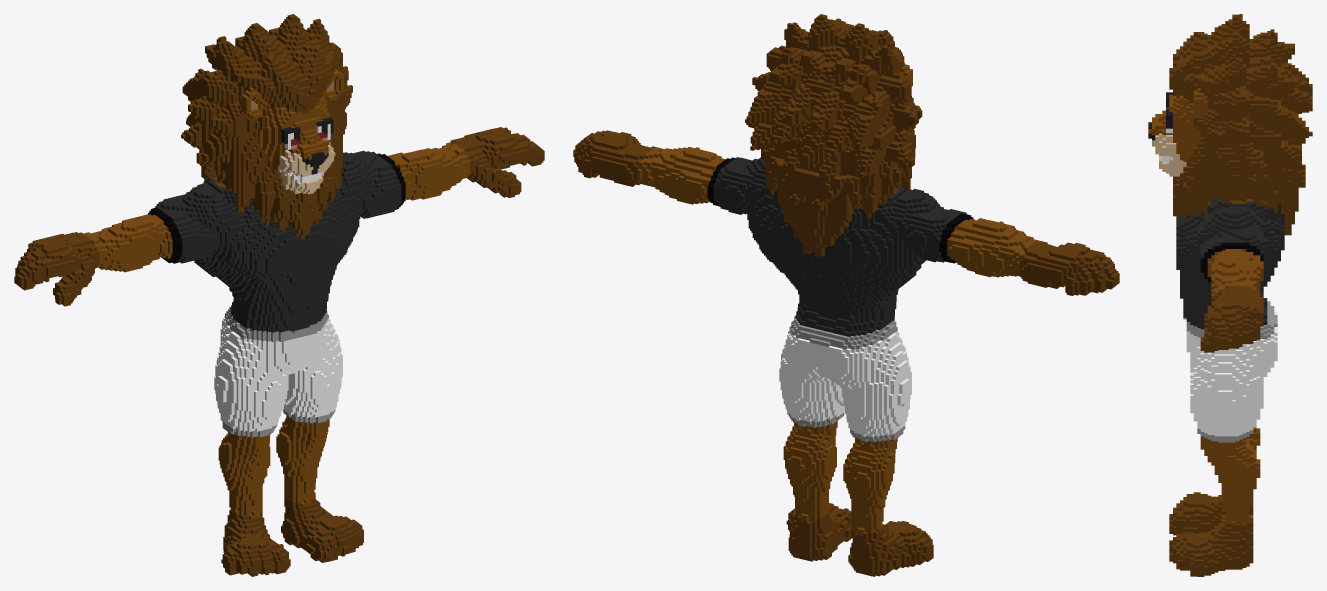
File: 263-DHDuP-Yv.fbx
3 renders of one model, left to right at view 1: azimuth 30°, elevation 25°; view 2: azimuth 150°, elevation 25°; view 3: azimuth 270°, elevation 25°, orthographic. The views are drawn at different scales.
Visible parts, largest first — view 1: big_smile; view 2: big_smile; view 3: big_smile.
Part boxes in pixels (left/top/right/bottom): big_smile: left=14, top=14, right=544, bottom=576; big_smile: left=573, top=14, right=1119, bottom=576; big_smile: left=1148, top=14, right=1312, bottom=576.
Bounding box in the file's own units: 17.2 × 16.5 × 4.7.
Materials: 5 (5 with a texture image).
